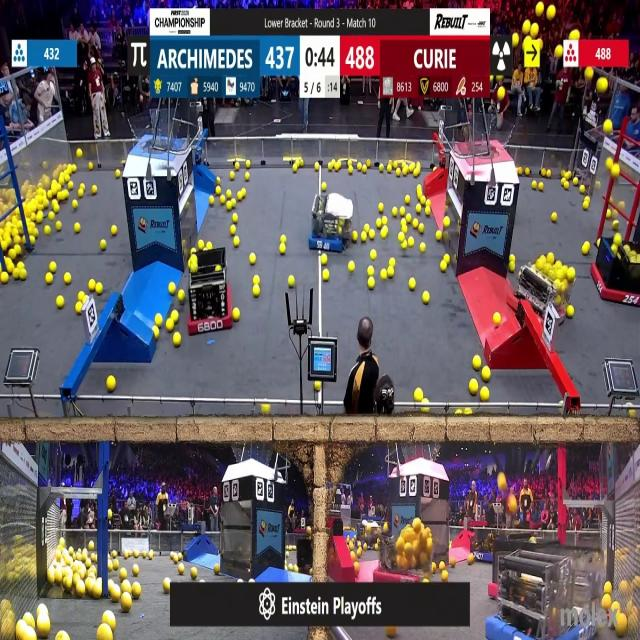ball_airborne: (597, 77, 607, 92), (603, 121, 612, 136), (509, 497, 518, 512), (498, 475, 506, 491), (530, 24, 538, 38), (546, 5, 554, 19), (586, 68, 595, 80), (536, 3, 544, 16), (610, 165, 618, 178), (524, 22, 531, 36), (497, 89, 505, 101), (556, 45, 564, 57), (524, 37, 532, 49), (514, 33, 520, 47), (570, 31, 578, 41), (606, 160, 612, 170), (536, 39, 542, 48)
ball_ground: (617, 617, 628, 638), (120, 593, 131, 612), (104, 614, 115, 630), (97, 627, 110, 640), (76, 583, 85, 598), (94, 586, 103, 600), (107, 377, 115, 392), (110, 590, 120, 602), (387, 626, 396, 639), (482, 366, 490, 380), (468, 380, 476, 394), (164, 580, 172, 594), (173, 334, 181, 348), (133, 584, 141, 598), (602, 595, 610, 609), (188, 260, 196, 274), (120, 582, 130, 593), (481, 388, 490, 400), (26, 616, 35, 628), (472, 356, 480, 369), (414, 388, 422, 401), (567, 269, 575, 282), (422, 291, 430, 303), (1, 273, 9, 285), (57, 632, 69, 640), (155, 314, 162, 327), (178, 289, 185, 302), (234, 309, 241, 321), (322, 270, 329, 282), (58, 295, 65, 307), (493, 313, 500, 325), (170, 282, 177, 294), (167, 320, 174, 332), (380, 230, 388, 240), (263, 406, 271, 416), (77, 291, 85, 301), (61, 189, 69, 199), (584, 242, 590, 255), (410, 279, 417, 290), (45, 274, 52, 285), (172, 311, 179, 322), (6, 263, 13, 274), (108, 582, 115, 593), (36, 212, 43, 223), (65, 273, 71, 285), (567, 306, 573, 318), (97, 282, 103, 294), (388, 268, 394, 280), (90, 280, 96, 292), (13, 246, 21, 255), (369, 250, 376, 260), (443, 570, 450, 580), (381, 270, 388, 280), (467, 555, 474, 565), (252, 286, 259, 296), (604, 584, 611, 594), (507, 264, 514, 274), (611, 220, 618, 230), (171, 553, 178, 563), (30, 225, 37, 235), (250, 253, 256, 264), (288, 276, 294, 287), (234, 237, 240, 248), (19, 270, 25, 281), (101, 240, 107, 251), (367, 278, 373, 289), (190, 567, 196, 578), (232, 224, 238, 235), (76, 304, 82, 315), (110, 224, 116, 235), (153, 327, 159, 338), (584, 200, 590, 211), (134, 565, 140, 576), (51, 200, 57, 211), (2, 241, 8, 252), (389, 257, 396, 266), (414, 169, 421, 178), (74, 222, 80, 232), (49, 264, 55, 274), (178, 564, 184, 574), (321, 254, 327, 264), (552, 212, 558, 222), (44, 224, 50, 234), (93, 184, 99, 194), (419, 222, 425, 232), (445, 217, 451, 227), (349, 263, 355, 273), (315, 381, 321, 391), (352, 233, 358, 243), (420, 243, 426, 253), (120, 568, 126, 578), (72, 200, 78, 210), (379, 203, 385, 213), (214, 564, 220, 574), (377, 218, 383, 228), (354, 562, 360, 572), (226, 200, 232, 210), (407, 214, 413, 224), (112, 560, 118, 570), (280, 244, 285, 255), (367, 267, 372, 278), (435, 232, 441, 241), (57, 221, 63, 230), (442, 264, 448, 273), (368, 232, 374, 241), (392, 208, 398, 217), (398, 207, 404, 216), (220, 197, 226, 206), (68, 181, 74, 190), (253, 276, 259, 285), (199, 241, 205, 250), (382, 216, 388, 225), (413, 219, 419, 228), (240, 189, 246, 198), (76, 148, 82, 157), (420, 197, 426, 206), (8, 248, 14, 257), (409, 238, 414, 248), (406, 197, 411, 207), (356, 550, 361, 560), (465, 410, 472, 417), (564, 182, 570, 190), (363, 223, 369, 231), (445, 254, 451, 262), (395, 169, 401, 177), (348, 167, 354, 175), (48, 212, 54, 220), (572, 178, 578, 186), (244, 173, 250, 181), (231, 172, 237, 180), (356, 162, 362, 170), (566, 172, 572, 180), (148, 553, 154, 561), (297, 161, 303, 169), (401, 168, 407, 176), (361, 234, 366, 243), (417, 205, 422, 214), (425, 207, 430, 216), (398, 234, 403, 243), (78, 188, 83, 197), (292, 163, 297, 172), (226, 189, 231, 198), (380, 165, 385, 174), (451, 558, 456, 567), (351, 552, 356, 561), (327, 164, 332, 173), (431, 562, 436, 571), (93, 554, 98, 563), (387, 167, 393, 174), (17, 263, 23, 270), (400, 217, 406, 224), (14, 237, 20, 244), (365, 162, 371, 169), (115, 170, 120, 178), (321, 182, 326, 190), (281, 236, 286, 244), (579, 184, 584, 192), (538, 182, 543, 190), (532, 181, 537, 189), (215, 186, 220, 194), (401, 242, 406, 250), (236, 163, 241, 171), (441, 562, 446, 570), (207, 242, 212, 250), (315, 164, 320, 172), (516, 166, 521, 174), (31, 237, 36, 245), (606, 210, 611, 218), (178, 554, 183, 562), (596, 240, 601, 248), (65, 175, 70, 183), (234, 214, 238, 223), (210, 197, 214, 206), (47, 189, 51, 198), (511, 255, 517, 261), (401, 224, 406, 231), (216, 177, 221, 184), (190, 247, 195, 254), (546, 170, 550, 178), (90, 164, 94, 172), (362, 166, 366, 174), (244, 159, 248, 167), (522, 168, 526, 176), (561, 171, 565, 179), (560, 178, 564, 186), (292, 566, 296, 574), (426, 200, 430, 208), (424, 577, 429, 583), (418, 184, 422, 191), (72, 166, 76, 173)
goal: (461, 119, 517, 158), (129, 115, 186, 151)
robot_blue: (490, 548, 598, 640), (308, 196, 352, 253), (472, 528, 498, 562)
robot_red: (375, 520, 432, 585), (187, 247, 231, 328), (518, 254, 574, 316), (594, 241, 640, 305)
